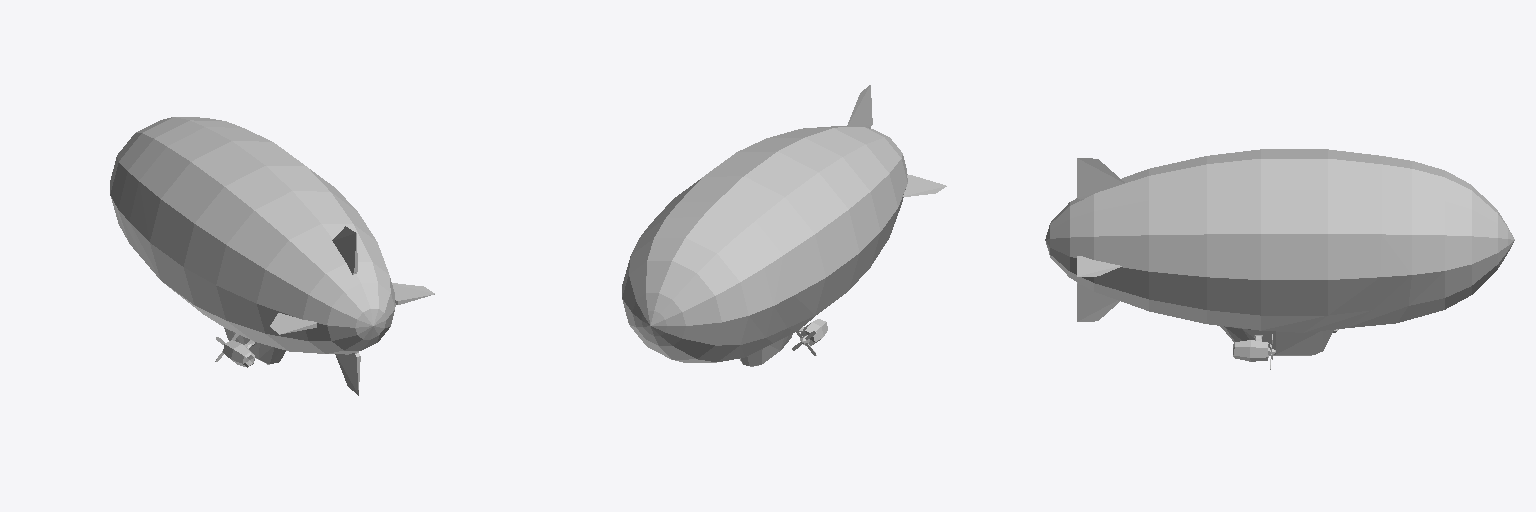
File: blimp.obj
3 views of the same model, side by side, from view 1: azimuth 30°, elevation 25°; view 2: azimuth 150°, elevation 25°; view 3: azimuth 270°, elevation 25° (orthographic).
Visible parts, largest first — view 1: Gotham_Blimp; view 2: Gotham_Blimp; view 3: Gotham_Blimp.
Boxes of the visible parts, <box> form: Gotham_Blimp: <box>110,117,434,395</box>; Gotham_Blimp: <box>622,85,946,366</box>; Gotham_Blimp: <box>1045,149,1514,369</box>.
Bounding box in the file's own units: 118 × 134 × 292.